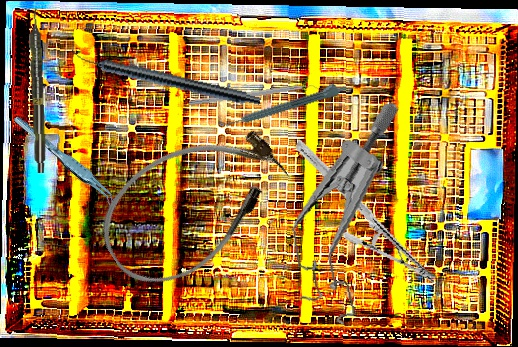Cannula: (81, 103, 305, 306)
Chopper: (188, 81, 323, 114)
Handpiece: (68, 47, 263, 109), (222, 78, 349, 130), (28, 8, 48, 174)
Needle Holder: (269, 138, 463, 286)
Speculum: (271, 102, 430, 331)
Tissue Forceps: (12, 104, 119, 217)
